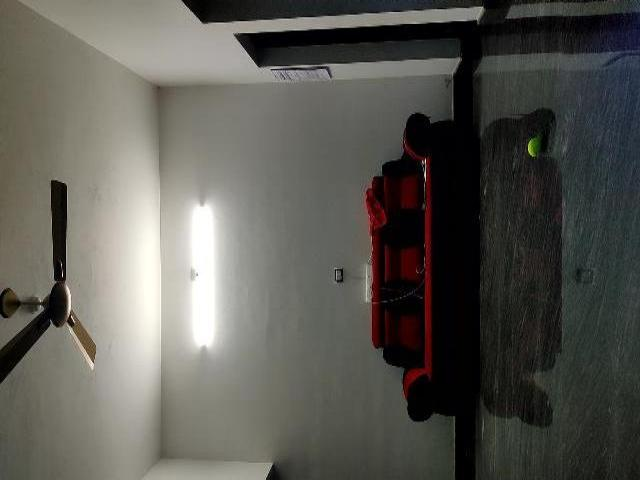tennis-ball: (526, 137, 542, 156)
